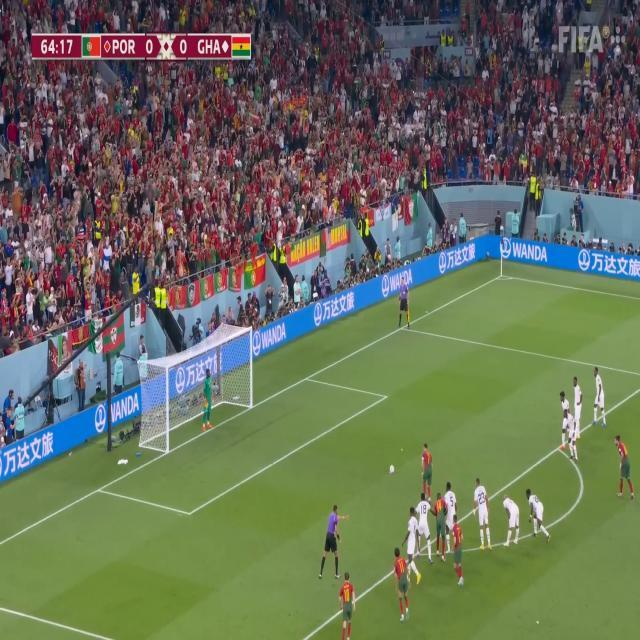football: (382, 463, 407, 489)
